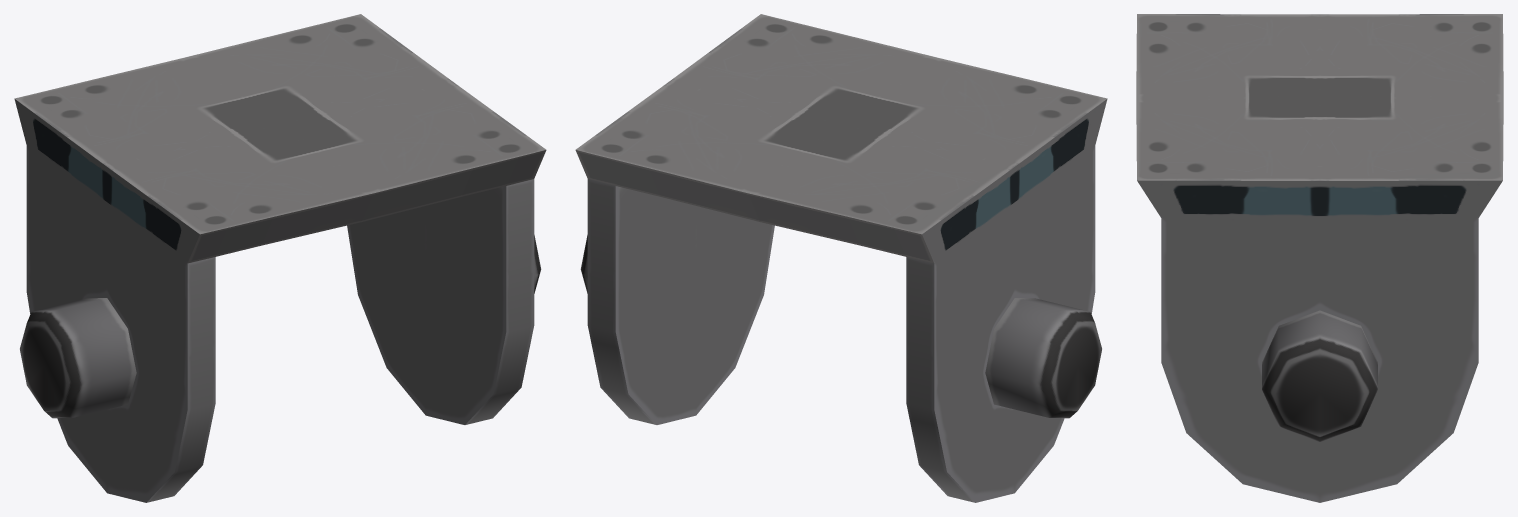
Rendered from HybridHinge0111.fbx.
The picture shows the model from 3 angles, left to right: view 1: azimuth 30°, elevation 25°; view 2: azimuth 150°, elevation 25°; view 3: azimuth 270°, elevation 25°; orthographic projection.
Parts seen in each view (by area): view 1: HybridHinge021.001; view 2: HybridHinge021.001; view 3: HybridHinge021.001.
Boxes of the visible parts, box(x1,y1,x2,y2) form: HybridHinge021.001: box(14, 14, 546, 502); HybridHinge021.001: box(575, 14, 1107, 502); HybridHinge021.001: box(1136, 14, 1503, 502).
Size of the model in its own units: 105 by 69.09 by 71.42.
